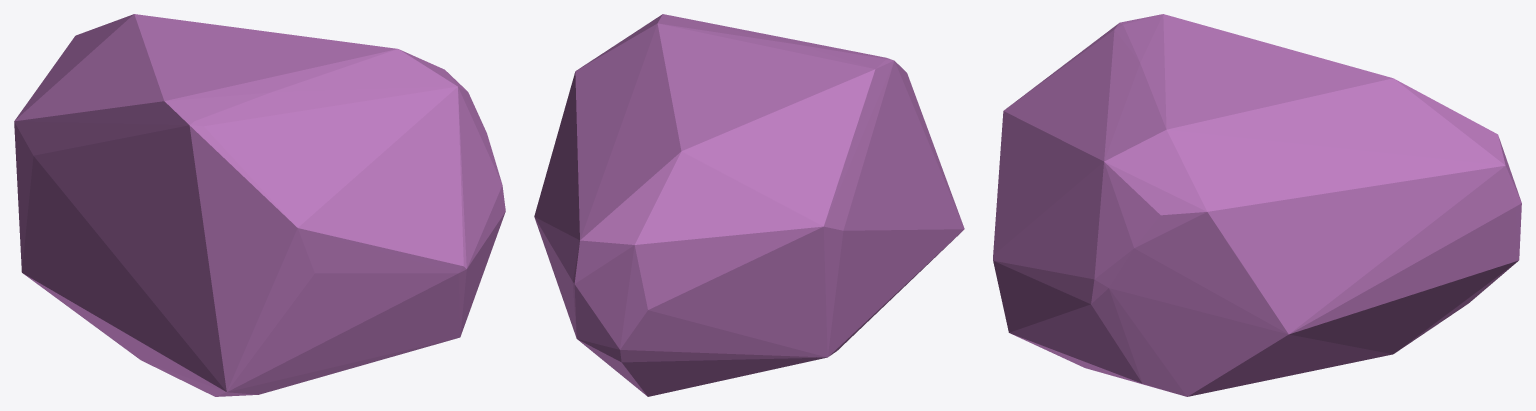
File: airSystem_compressor_a01.glb
3 renders of one model, left to right at view 1: azimuth 30°, elevation 25°; view 2: azimuth 150°, elevation 25°; view 3: azimuth 270°, elevation 25°, orthographic. The views are drawn at different scales.
Visible parts, largest first — view 1: geometry_0; view 2: geometry_0; view 3: geometry_0.
Part boxes in pixels (x1,y1,x2,y2): geometry_0: (14, 14, 505, 396); geometry_0: (534, 14, 964, 396); geometry_0: (993, 14, 1521, 396).
Size of the model in its own units: 0.3533 by 0.2758 by 0.4775.
